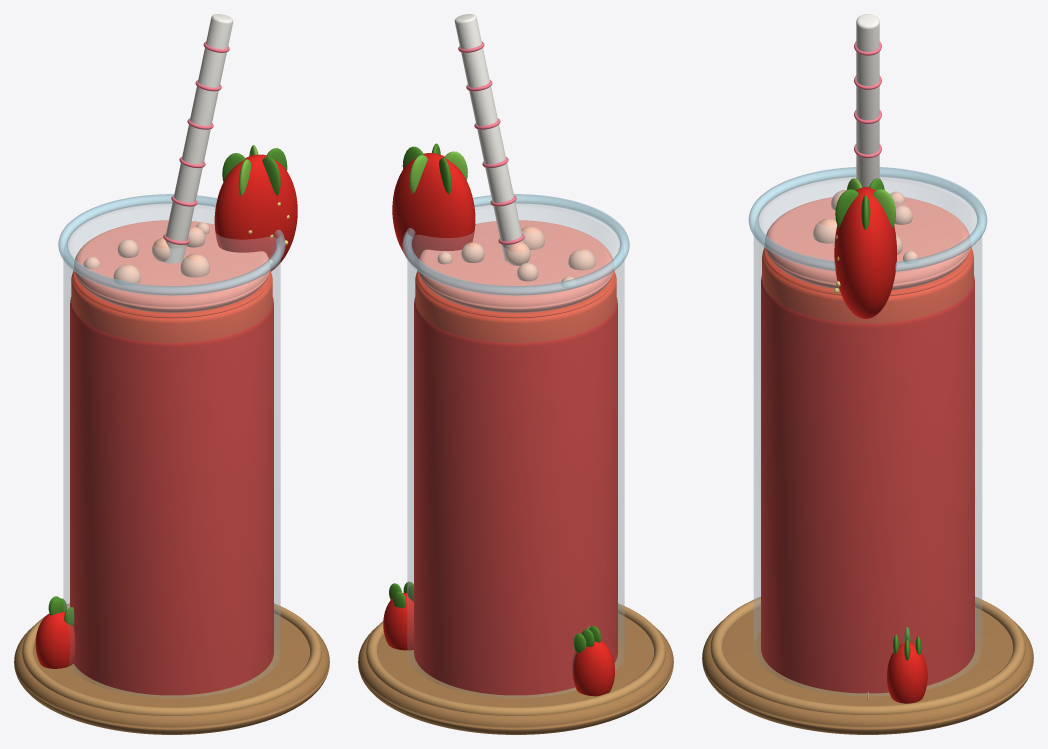
Rendered from strawberryjuice.glb.
The picture shows the model from 3 angles, left to right: view 1: azimuth 30°, elevation 25°; view 2: azimuth 150°, elevation 25°; view 3: azimuth 270°, elevation 25°; orthographic projection. The views are drawn at different scales.
Visible parts, largest first — view 1: Clear_Strawberry_Juice_Glass, Deep_Red_Strawberry_Juice, Round_Wooden_Coaster, Strawberry_Foam_Layer, Strawberry_Garnish, Lighter_Strawberry_Juice_Top, White_Pink_Striped_Straw, Coaster_Raised_Edge, Glass_Top_Rim, Coaster_Strawberry_1, Strawberry_Juice_Surface, Foam_Bubble_3; view 2: Clear_Strawberry_Juice_Glass, Deep_Red_Strawberry_Juice, Round_Wooden_Coaster, Strawberry_Foam_Layer, Strawberry_Garnish, Lighter_Strawberry_Juice_Top, White_Pink_Striped_Straw, Coaster_Raised_Edge, Glass_Top_Rim, Coaster_Strawberry_1, Coaster_Strawberry_2, Strawberry_Juice_Surface; view 3: Clear_Strawberry_Juice_Glass, Deep_Red_Strawberry_Juice, Round_Wooden_Coaster, Strawberry_Foam_Layer, Strawberry_Garnish, Coaster_Raised_Edge, Lighter_Strawberry_Juice_Top, Glass_Top_Rim, White_Pink_Striped_Straw, Coaster_Strawberry_2, Strawberry_Juice_Surface.
Boxes of the visible parts, x1=… form: Clear_Strawberry_Juice_Glass: x1=63, y1=202, x2=280, y2=697; Deep_Red_Strawberry_Juice: x1=70, y1=297, x2=273, y2=695; Round_Wooden_Coaster: x1=14, y1=613, x2=329, y2=734; Strawberry_Foam_Layer: x1=74, y1=220, x2=269, y2=312; Strawberry_Garnish: x1=214, y1=154, x2=297, y2=271; Lighter_Strawberry_Juice_Top: x1=71, y1=273, x2=272, y2=343; White_Pink_Striped_Straw: x1=164, y1=14, x2=233, y2=263; Coaster_Raised_Edge: x1=22, y1=603, x2=321, y2=715; Glass_Top_Rim: x1=58, y1=194, x2=285, y2=295; Coaster_Strawberry_1: x1=35, y1=611, x2=75, y2=668; Strawberry_Juice_Surface: x1=72, y1=270, x2=271, y2=318; Foam_Bubble_3: x1=180, y1=253, x2=210, y2=277; Clear_Strawberry_Juice_Glass: x1=407, y1=202, x2=624, y2=697; Deep_Red_Strawberry_Juice: x1=414, y1=297, x2=617, y2=695; Round_Wooden_Coaster: x1=358, y1=613, x2=673, y2=734; Strawberry_Foam_Layer: x1=418, y1=220, x2=613, y2=312; Strawberry_Garnish: x1=392, y1=153, x2=475, y2=268; Lighter_Strawberry_Juice_Top: x1=415, y1=273, x2=616, y2=343; White_Pink_Striped_Straw: x1=454, y1=14, x2=523, y2=261; Coaster_Raised_Edge: x1=366, y1=603, x2=665, y2=715; Glass_Top_Rim: x1=402, y1=194, x2=629, y2=295; Coaster_Strawberry_1: x1=571, y1=640, x2=614, y2=696; Coaster_Strawberry_2: x1=383, y1=593, x2=413, y2=650; Strawberry_Juice_Surface: x1=416, y1=270, x2=615, y2=318; Clear_Strawberry_Juice_Glass: x1=754, y1=176, x2=981, y2=696; Deep_Red_Strawberry_Juice: x1=761, y1=276, x2=974, y2=693; Round_Wooden_Coaster: x1=702, y1=607, x2=1033, y2=734; Strawberry_Foam_Layer: x1=765, y1=197, x2=970, y2=290; Strawberry_Garnish: x1=834, y1=187, x2=896, y2=318; Coaster_Raised_Edge: x1=710, y1=597, x2=1025, y2=714; Lighter_Strawberry_Juice_Top: x1=762, y1=249, x2=973, y2=323; Glass_Top_Rim: x1=748, y1=167, x2=987, y2=271; White_Pink_Striped_Straw: x1=856, y1=14, x2=879, y2=187; Coaster_Strawberry_2: x1=887, y1=642, x2=927, y2=703; Strawberry_Juice_Surface: x1=763, y1=247, x2=972, y2=296.
Bounding box in the file's own units: 2.96 × 6.66 × 2.96.
